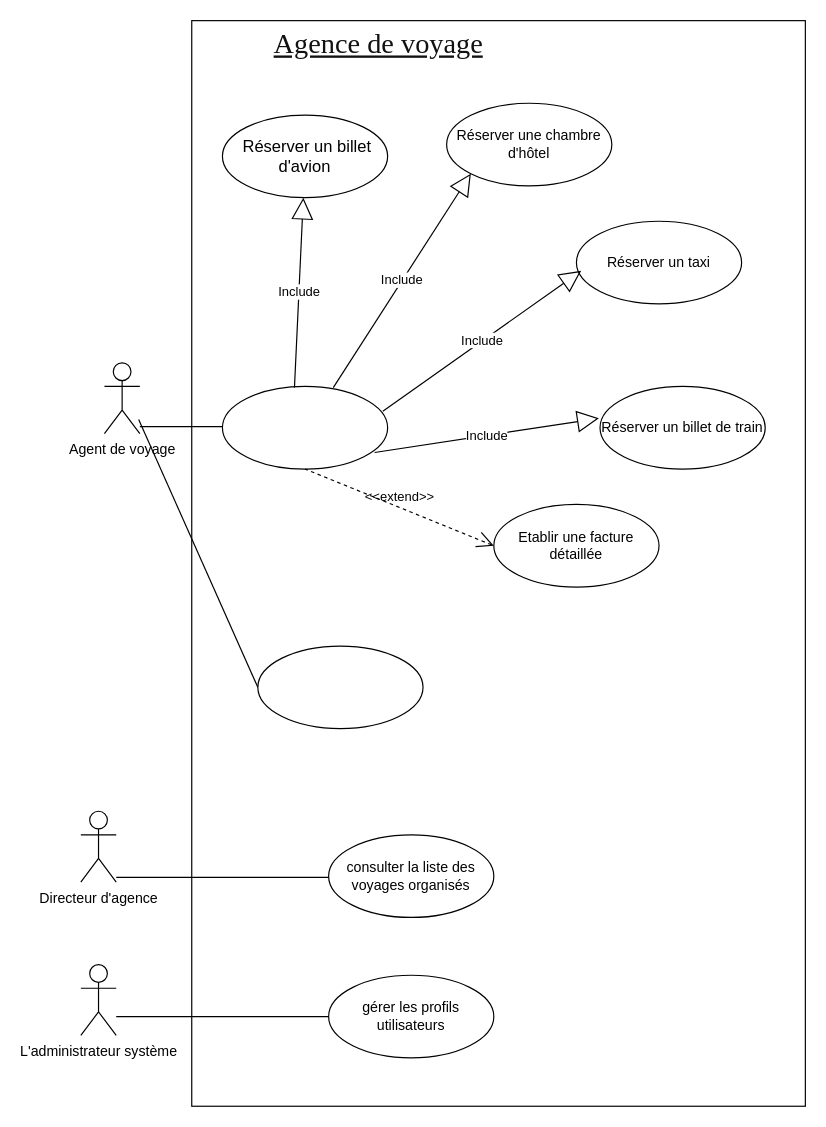
The diagram is 826 pixels wide and 1127 high, and some of its shapes have lost their labels. The centre of each missing label's shape, as x and y in pixels:
"annuler un voyage" goes at pixel 340 687.
"Organiser un voyage" goes at pixel 304 427.
